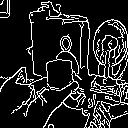cube: (41, 54, 78, 94)
